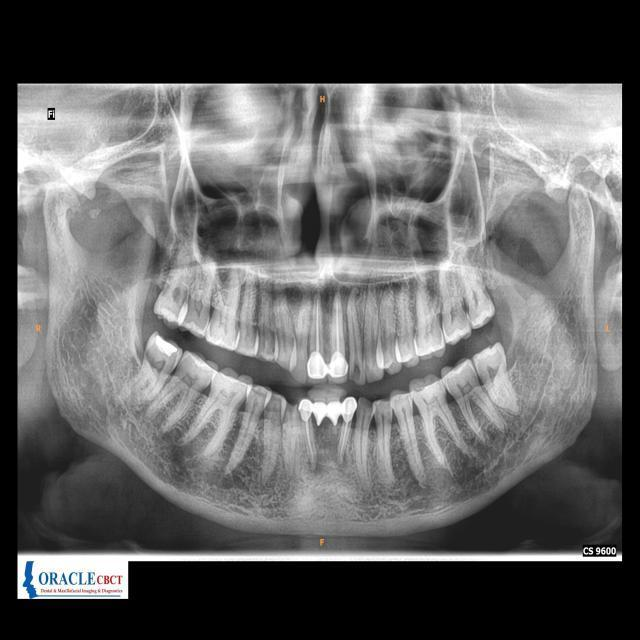dentin-curugu: (353, 361, 364, 381)
dolgu: (155, 336, 180, 359)
kanal-tedavisi: (300, 424, 317, 470), (311, 296, 324, 353), (331, 296, 344, 353), (338, 423, 351, 458)
kaplama: (305, 350, 328, 380), (328, 353, 348, 379), (297, 395, 313, 420), (342, 396, 356, 420)
kopru: (307, 396, 346, 428)
